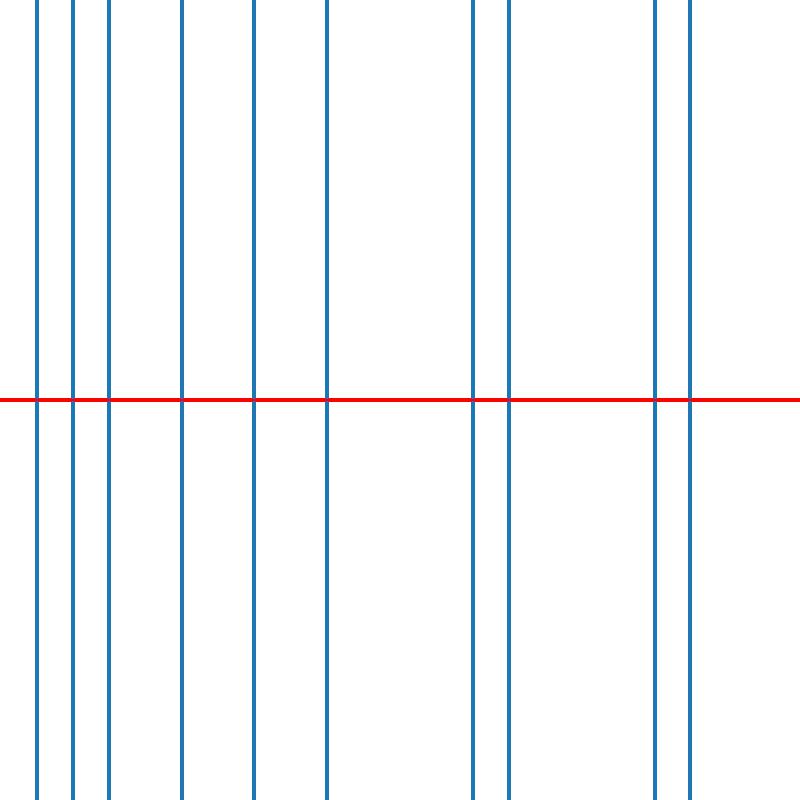root: (250, 396, 258, 404), (32, 396, 40, 404), (650, 396, 658, 404), (505, 396, 512, 404), (687, 396, 694, 404), (469, 396, 476, 404), (178, 396, 185, 404), (105, 396, 112, 404), (69, 396, 76, 404), (323, 396, 330, 404)
